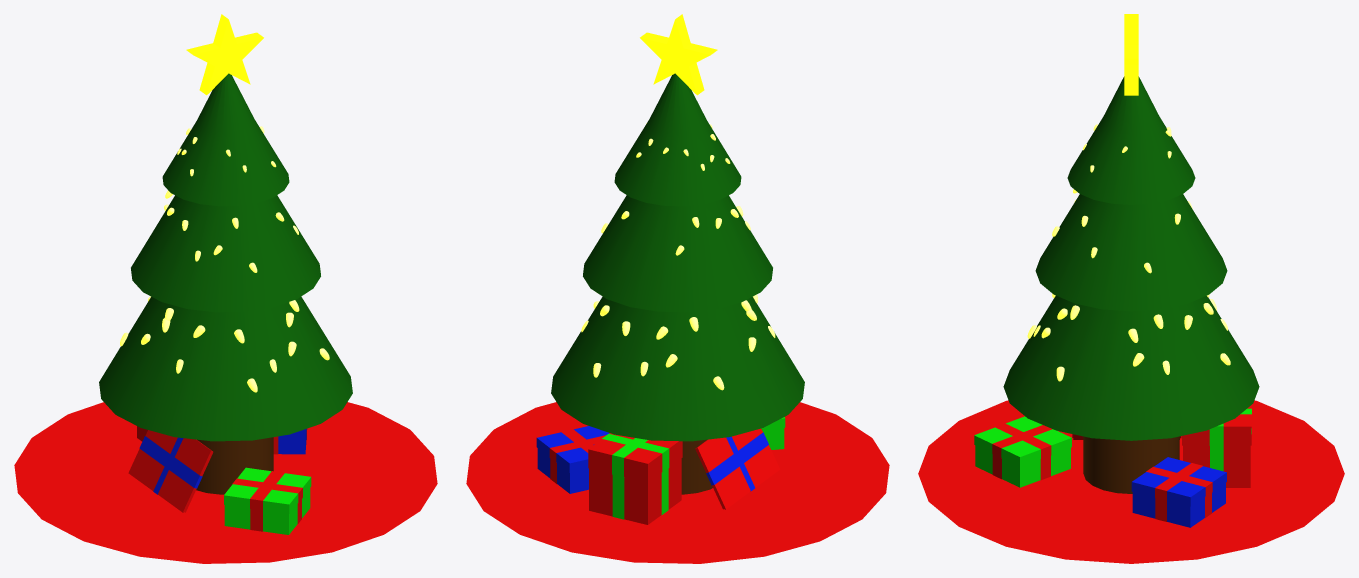
3 views of the same model, side by side, from view 1: azimuth 30°, elevation 25°; view 2: azimuth 150°, elevation 25°; view 3: azimuth 270°, elevation 25° (orthographic).
Parts seen in each view (by area): view 1: Object_5, Object_4, Object_6, Object_2, Object_3, Object_7, Object_8, Object_9; view 2: Object_5, Object_4, Object_7, Object_3, Object_6, Object_8, Object_2, Object_9; view 3: Object_5, Object_4, Object_6, Object_2, Object_7, Object_3, Object_8, Object_9.
Boxes of the visible parts, left/top/right/bottom form: Object_5: left=99, top=73, right=352, bottom=441; Object_4: left=14, top=402, right=437, bottom=563; Object_6: left=224, top=467, right=311, bottom=534; Object_2: left=196, top=437, right=273, bottom=494; Object_3: left=186, top=14, right=263, bottom=95; Object_7: left=139, top=429, right=307, bottom=494; Object_8: left=120, top=126, right=329, bottom=360; Object_9: left=162, top=128, right=284, bottom=392; Object_5: left=551, top=73, right=804, bottom=441; Object_4: left=466, top=402, right=889, bottom=563; Object_7: left=536, top=426, right=768, bottom=493; Object_3: left=640, top=14, right=717, bottom=95; Object_6: left=602, top=417, right=785, bottom=519; Object_8: left=581, top=123, right=757, bottom=390; Object_2: left=681, top=439, right=712, bottom=494; Object_9: left=593, top=134, right=775, bottom=377; Object_5: left=1003, top=76, right=1259, bottom=440; Object_4: left=918, top=400, right=1344, bottom=563; Object_6: left=974, top=408, right=1251, bottom=487; Object_2: left=1083, top=436, right=1179, bottom=493; Object_7: left=1131, top=457, right=1226, bottom=527; Object_3: left=1124, top=14, right=1138, bottom=95; Object_8: left=1041, top=124, right=1216, bottom=381; Object_9: left=1027, top=130, right=1230, bottom=365.
Size of the model in its own units: 10 by 11.89 by 10.
